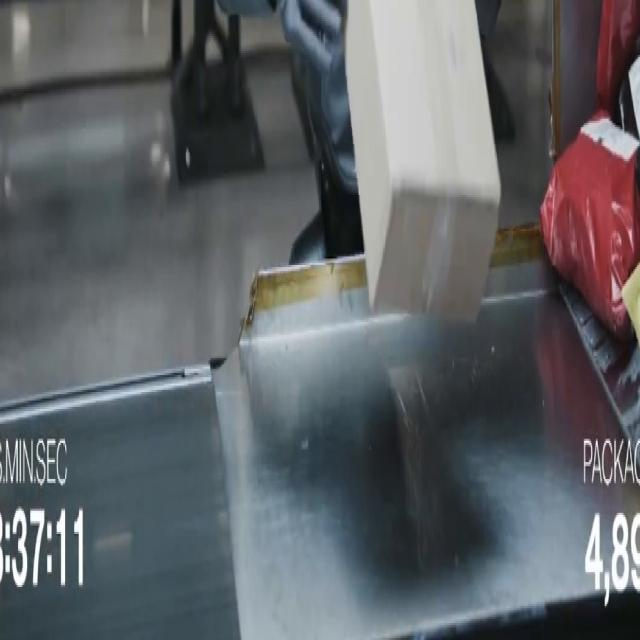package: (346, 0, 501, 322), (541, 113, 639, 339), (597, 0, 639, 114), (614, 41, 639, 137)
